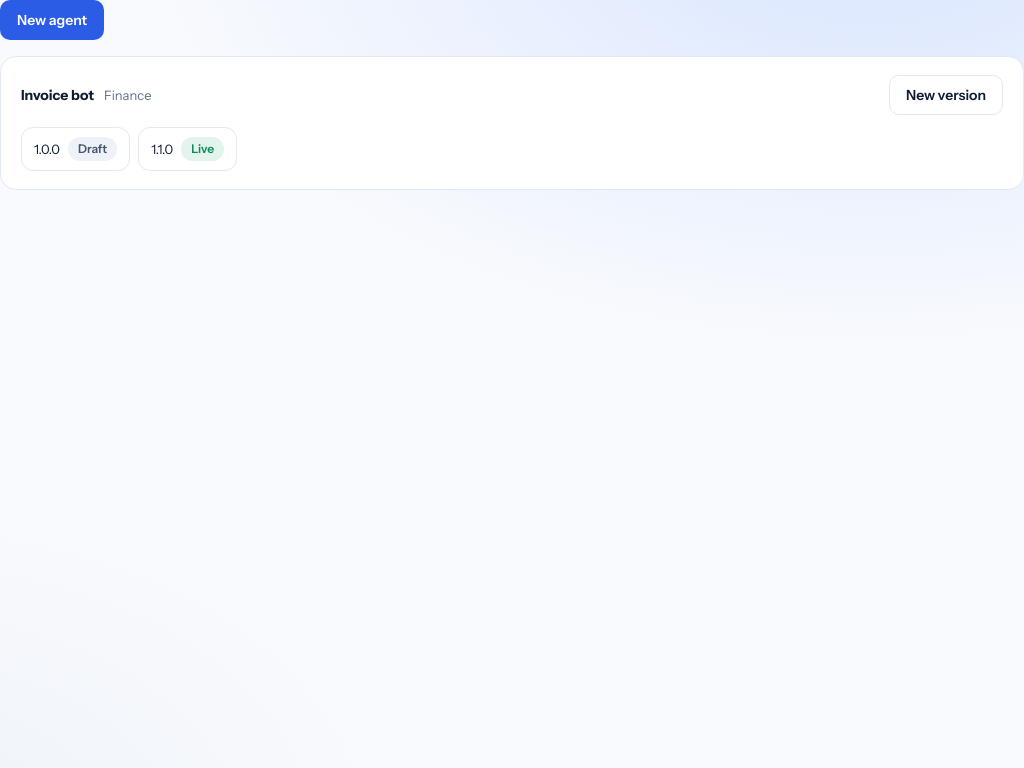
Test: asks for a version number
This screenshot has width=1024, height=768.
Click the button with aria-label "New version for Invoice bot" at (946, 95), box [889,75,1003,115]
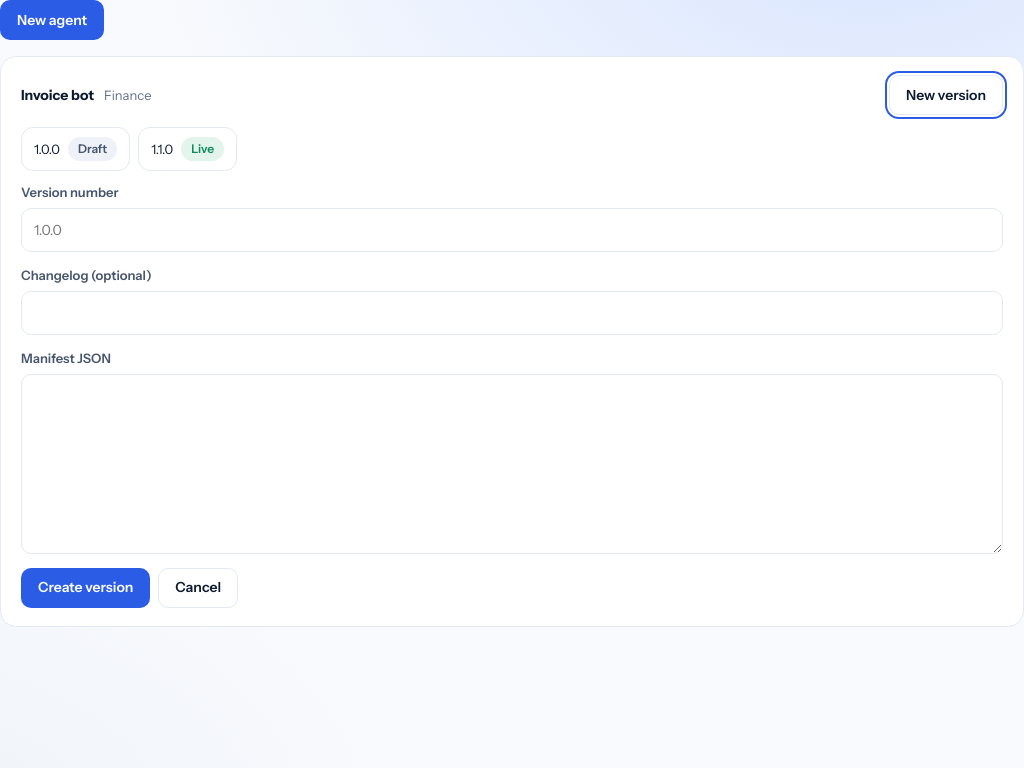
Click the text box labelled "Manifest JSON" at (512, 464), box [21,374,1003,554]
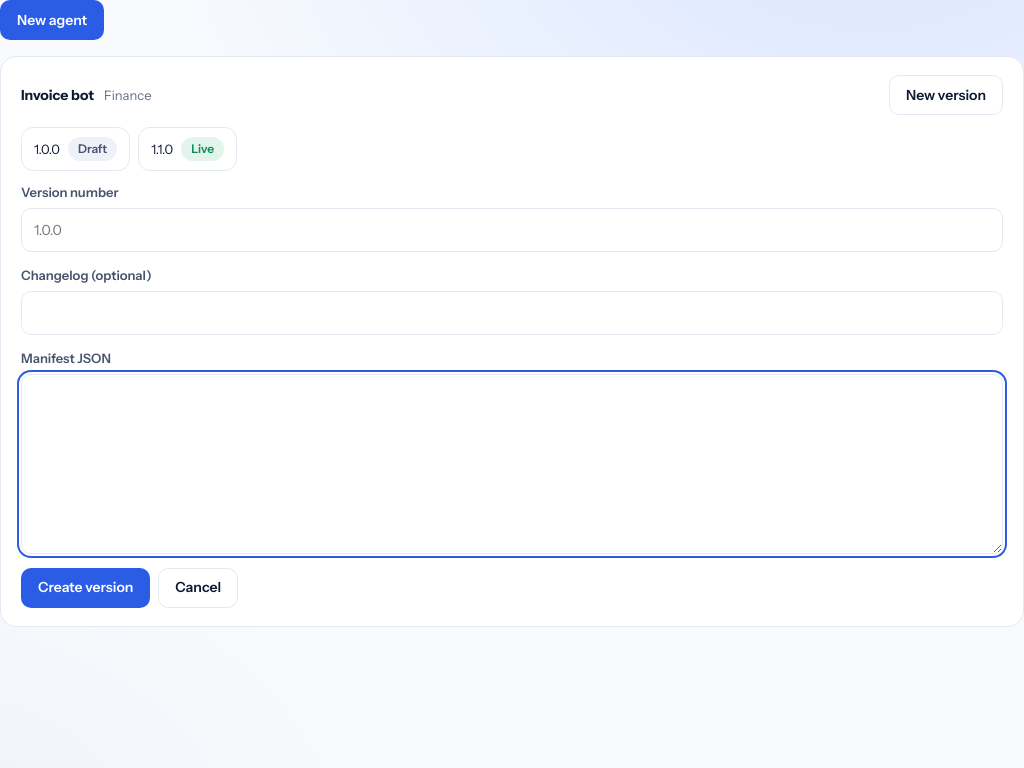
Type keys "{\"name\":\"x\"}"
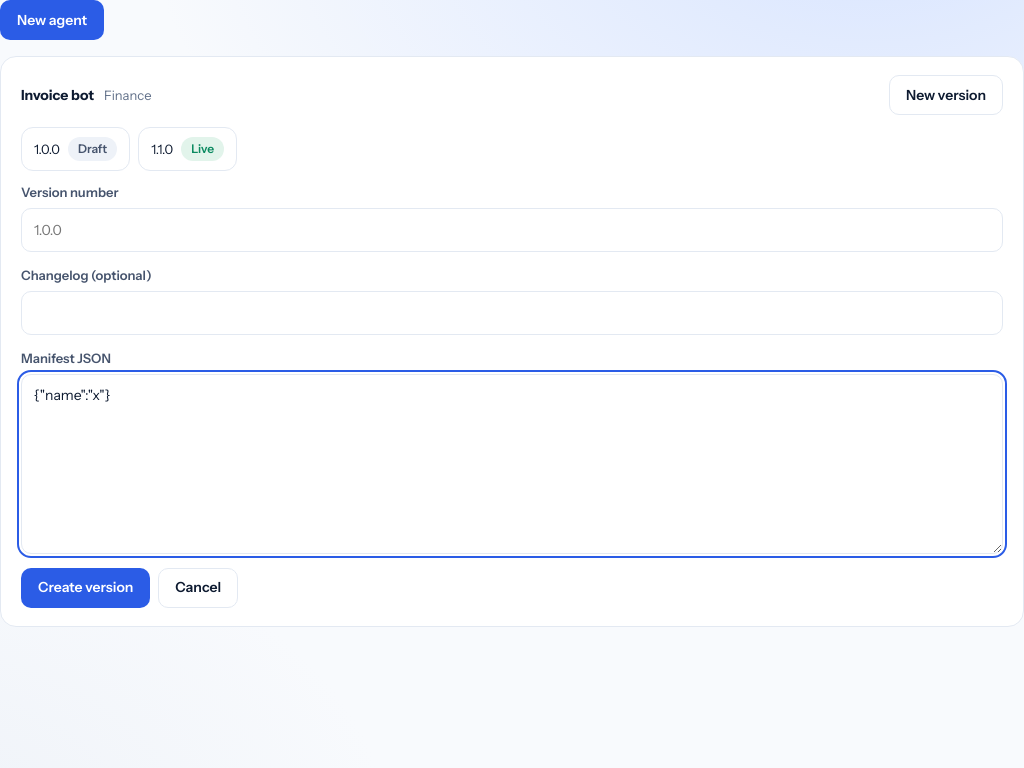
Click the button "Create version" at (86, 588), box [21,568,150,608]
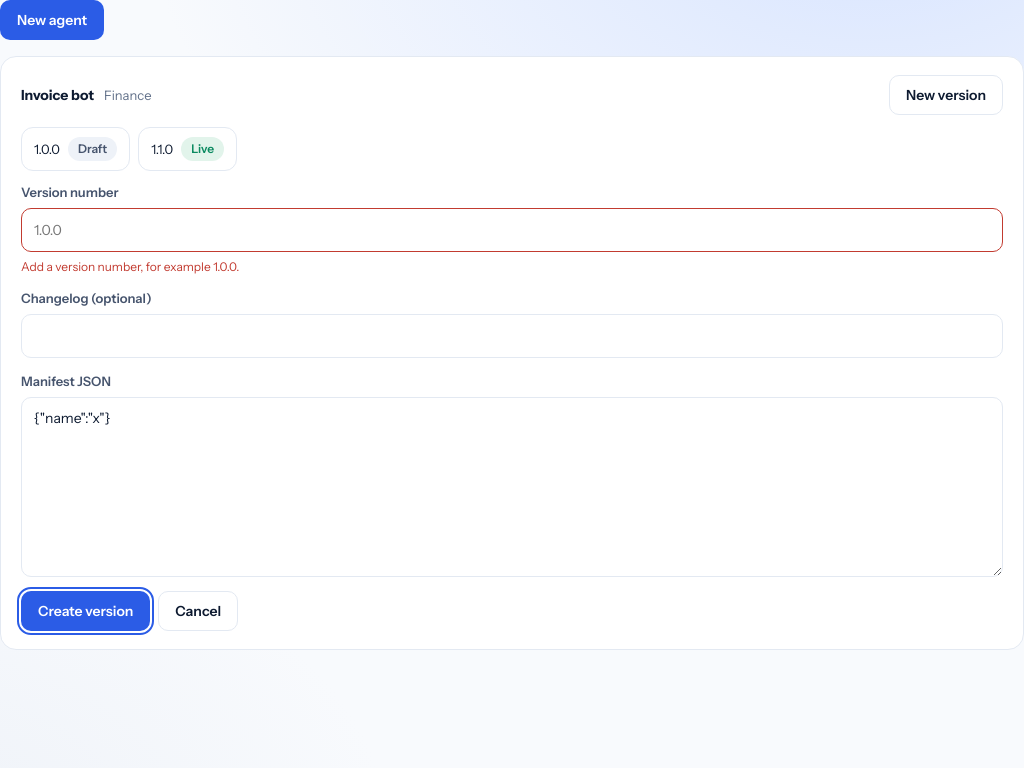
Expected: the text "Add a version number, for example 1.0.0." is shown, [21,259,239,274]
